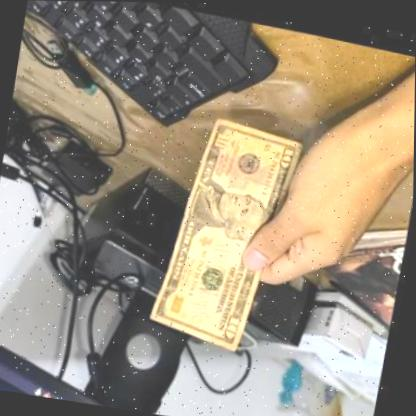ten-front: (140, 101, 317, 357)
